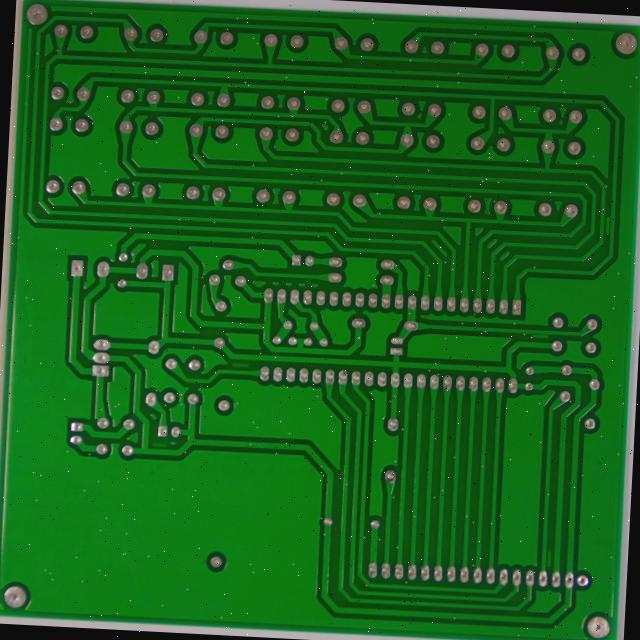spurious_copper: (172, 408, 202, 428), (265, 316, 294, 334), (613, 286, 639, 298)
